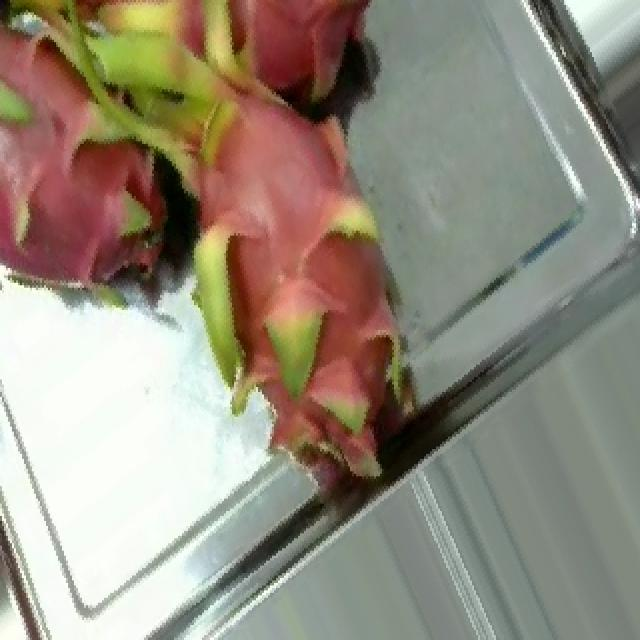Fruit: (198, 0, 396, 136), (592, 22, 640, 196)
